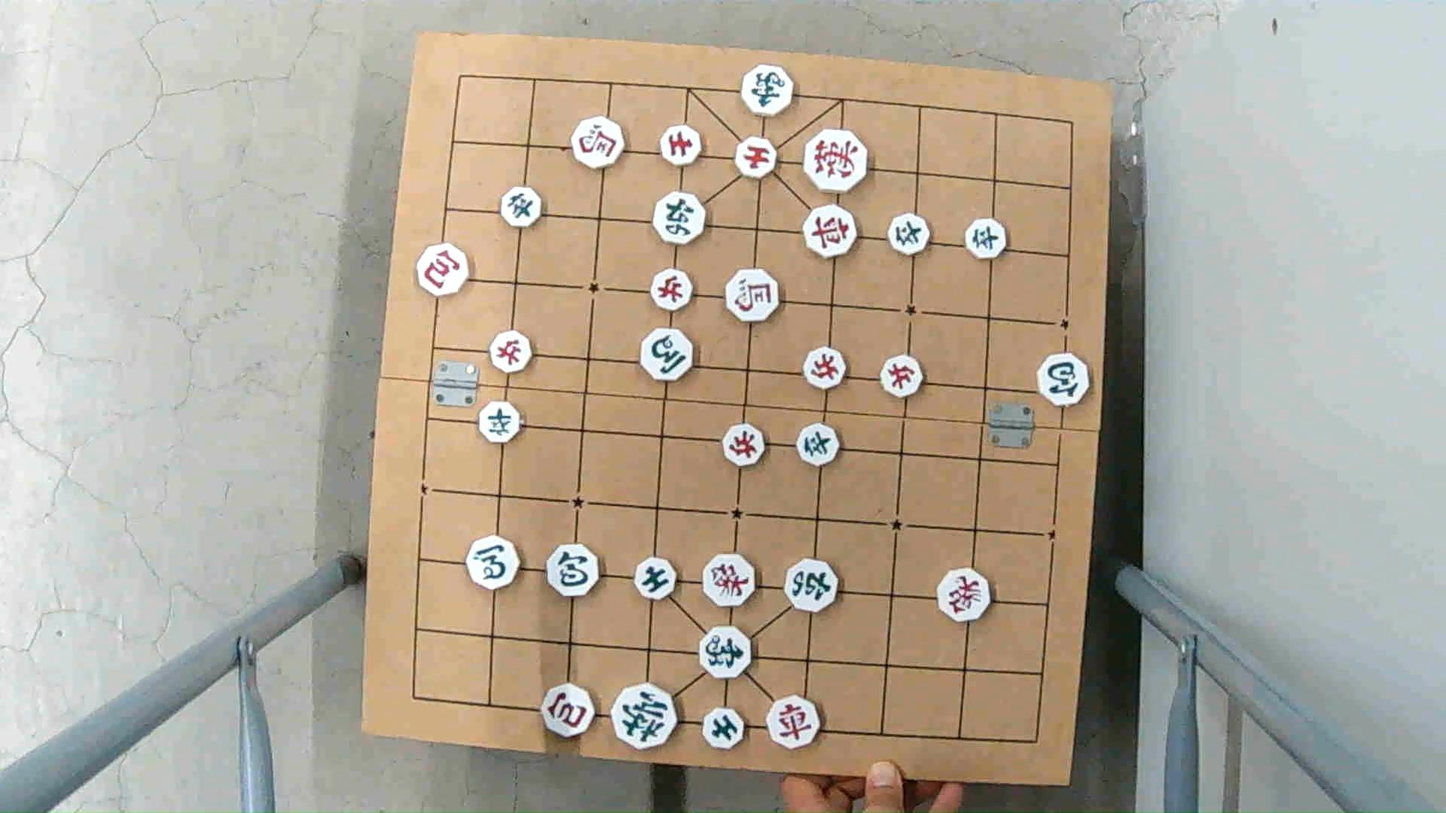cha_green: (786, 556, 839, 611), (650, 196, 707, 245)
cha_red: (766, 697, 822, 748), (801, 205, 858, 255)
jol_green: (795, 422, 840, 465), (476, 402, 523, 441), (963, 219, 1008, 257), (886, 215, 930, 253), (498, 189, 541, 227)
jol_red: (488, 334, 535, 373), (723, 425, 769, 464), (803, 349, 849, 388), (875, 358, 921, 395), (650, 271, 693, 309)
ma_green: (637, 330, 694, 381), (464, 539, 520, 590)
ma_red: (570, 118, 625, 166), (724, 270, 779, 318)
po_green: (542, 544, 605, 598), (1035, 352, 1091, 407)
po_red: (543, 687, 599, 738), (418, 245, 473, 295)
sa_green: (632, 558, 680, 596), (701, 708, 746, 748)
sa_red: (658, 123, 706, 168), (734, 139, 781, 180)
sang_green: (698, 629, 755, 680), (740, 68, 795, 117)
sang_red: (705, 554, 758, 607), (935, 570, 990, 619)
wang_green: (612, 683, 681, 746)
wang_red: (802, 129, 869, 188)
